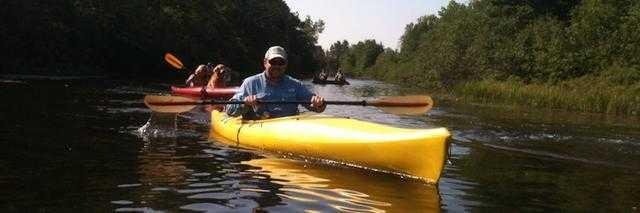kayak: (209, 105, 452, 185), (143, 93, 232, 115), (361, 95, 434, 115)
